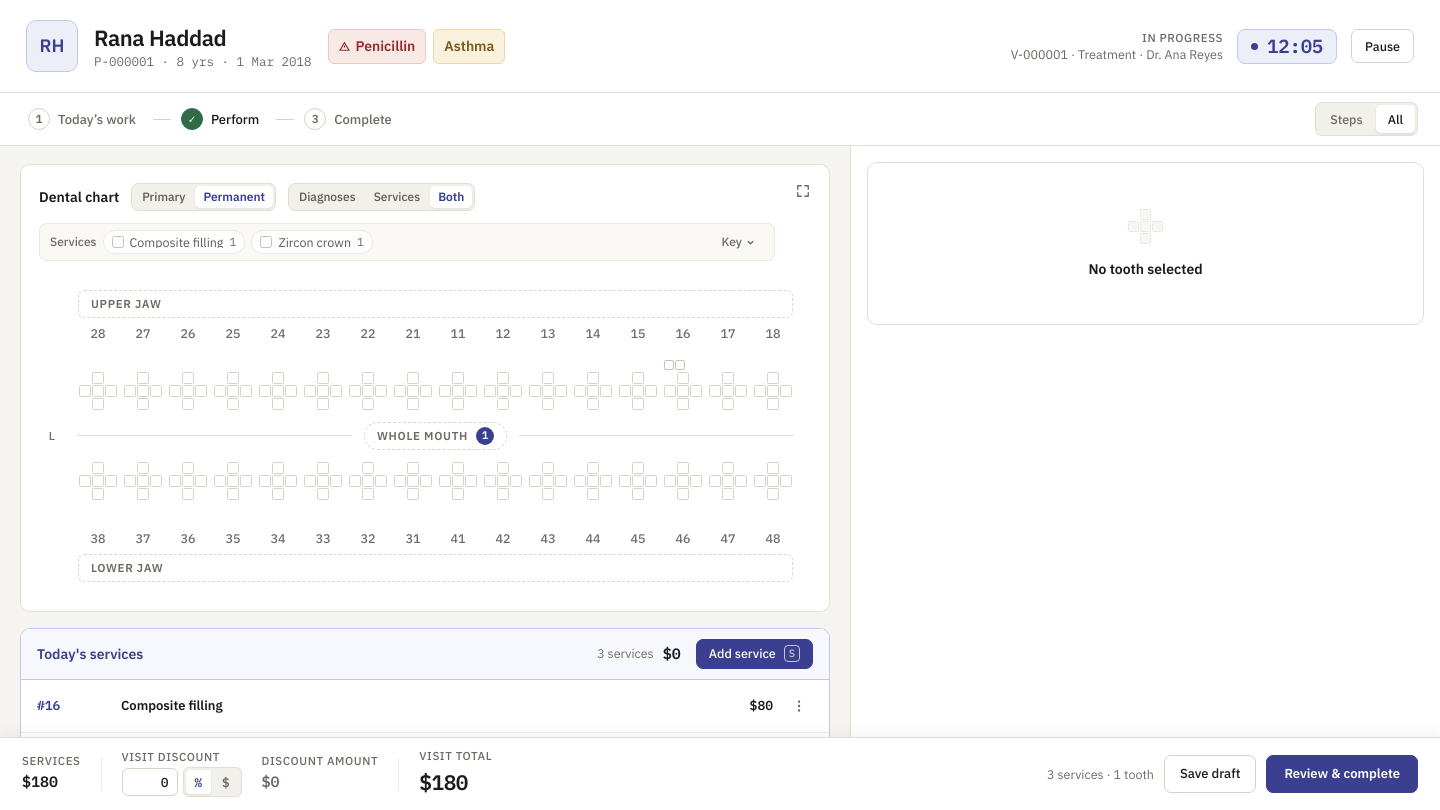
FinancialBar › keeps a 500 % discount as typed, caps the total and warns on a line of its own
Expected: the element named "Upper arch" is shown, [78,324,793,411]
Replace the text in the field named "Visit discount value" with "500" at (150, 782), box [122,768,178,796]
Wait 700 ms
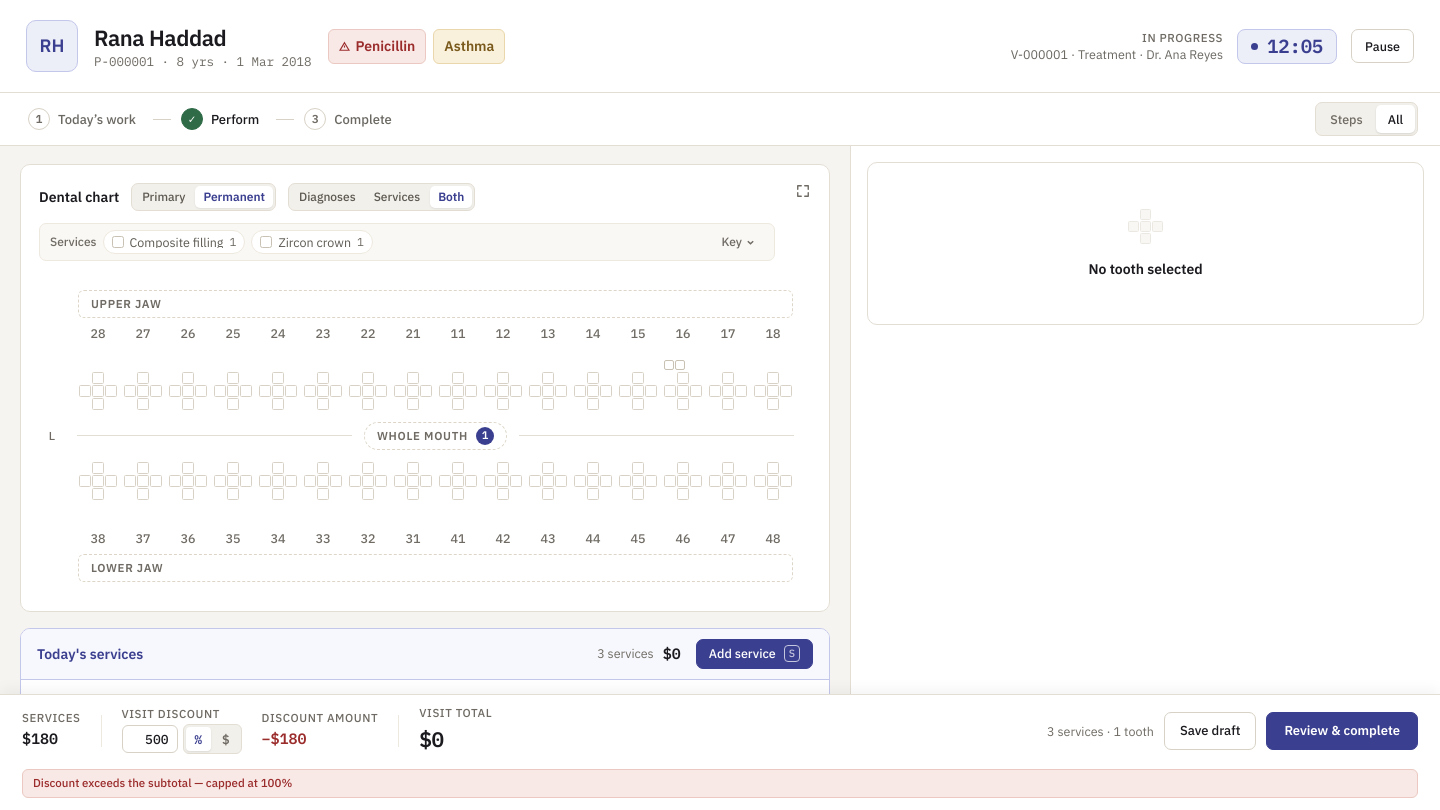
Expected: the message reads "Discount exceeds the subtotal — capped at 100%", [33,775,292,790]
Expected: the text "−$180" is shown, [262,729,306,748]
Expected: the text "$0" below "Visit total" is shown, [419,725,444,753]
